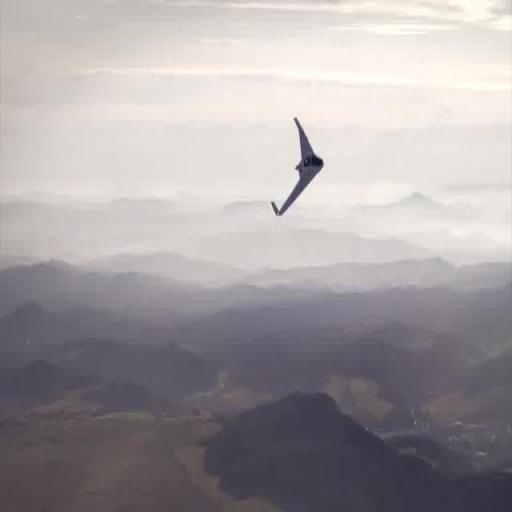uav: (269, 112, 327, 226)
